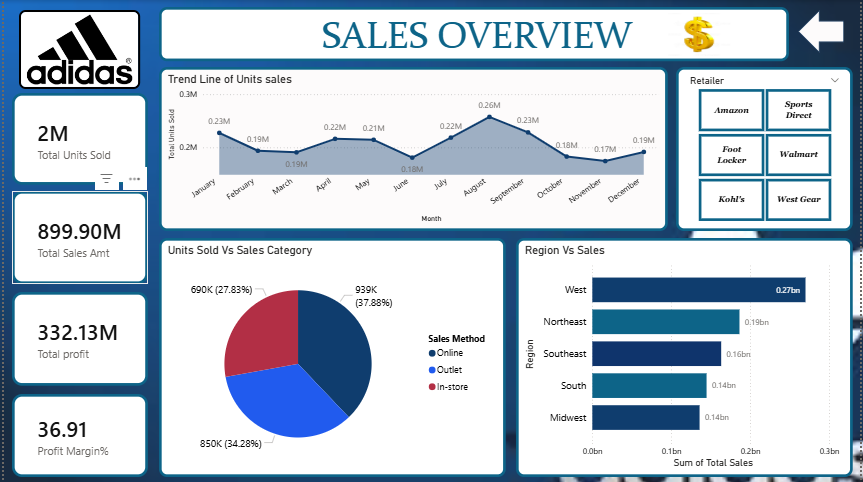

Layout of this report page (visuals, bound fields, positions):
{"tool":"powerbi","page":{"name":"Sales Analysis","canvas":[1280,720],"ordinal":1},"visuals":[{"type":"cardVisual","fields":{"Data":["Data Sales Adidas.Total Units Sold"]},"box":[12,138.9,203.2,137.4],"z":0},{"type":"cardVisual","fields":{"Data":["Data Sales Adidas.Total Sales Amt"]},"box":[12,285.3,203.2,138.9],"z":1000},{"type":"cardVisual","fields":{"Data":["Data Sales Adidas.Total profit"]},"box":[12,436.2,203.2,140.4],"z":2000},{"type":"cardVisual","fields":{"Data":["Data Sales Adidas.Profit %"]},"box":[12,588.5,203.2,124],"z":3000},{"type":"pieChart","title":"Units Sold Vs Sales Category","fields":{"Category":["Data Sales Adidas.Sales Method"],"Y":["Data Sales Adidas.Total Units Sold"]},"box":[231.5,355.5,518.3,357],"z":4000},{"type":"lineChart","title":"Trend Line of Units sales","fields":{"Category":["Data Sales Adidas.Invoice Date.Variation.Date Hierarchy.Year","Data Sales Adidas.Invoice Date.Variation.Date Hierarchy.Quarter","Data Sales Adidas.Invoice Date.Variation.Date Hierarchy.Month","Data Sales Adidas.Invoice Date.Variation.Date Hierarchy.Day"],"Y":["Data Sales Adidas.Total Units Sold"]},"box":[231.5,100.1,760.3,245],"z":5000},{"type":"barChart","title":"Region Vs Sales","fields":{"Category":["Data Sales Adidas.Region"],"Y":["Sum(Data Sales Adidas.Total Sales)"]},"box":[764.8,355.5,503.4,357],"z":6000},{"type":"slicer","fields":{"Values":["Data Sales Adidas.Retailer"]},"box":[1003.8,100.1,264.4,245],"z":7000},{"type":"textbox","title":"SALES OVERVIEW","box":[231.5,10.5,941.1,80.7],"z":8000},{"type":"image","box":[22.4,14.9,180.7,118],"z":9000},{"type":"image","box":[991.9,19.4,92.6,64.2],"z":10000},{"type":"shape","box":[1186.1,14.9,68.7,64.2],"z":11000}]}

Visuals, with their boxes in screenshot pixels (x1, y1, x2, y2), scaled from the page's 1280x720 canvas onto the 863x482 screenshot:
cardVisual - Data Sales Adidas.Total Units Sold: 8, 93, 145, 185
cardVisual - Data Sales Adidas.Total Sales Amt: 8, 191, 145, 284
cardVisual - Data Sales Adidas.Total profit: 8, 292, 145, 386
cardVisual - Data Sales Adidas.Profit %: 8, 394, 145, 477
"Units Sold Vs Sales Category" pieChart: 156, 238, 506, 477
"Trend Line of Units sales" lineChart: 156, 67, 669, 231
"Region Vs Sales" barChart: 516, 238, 855, 477
slicer - Data Sales Adidas.Retailer: 677, 67, 855, 231
"SALES OVERVIEW" textbox: 156, 7, 791, 61
image: 15, 10, 137, 89
image: 669, 13, 731, 56
shape: 800, 10, 846, 53
